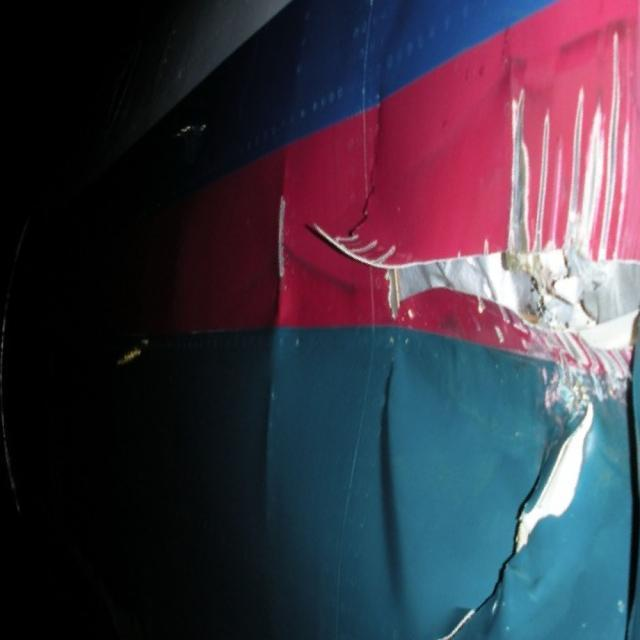crack: (516, 400, 599, 558)
